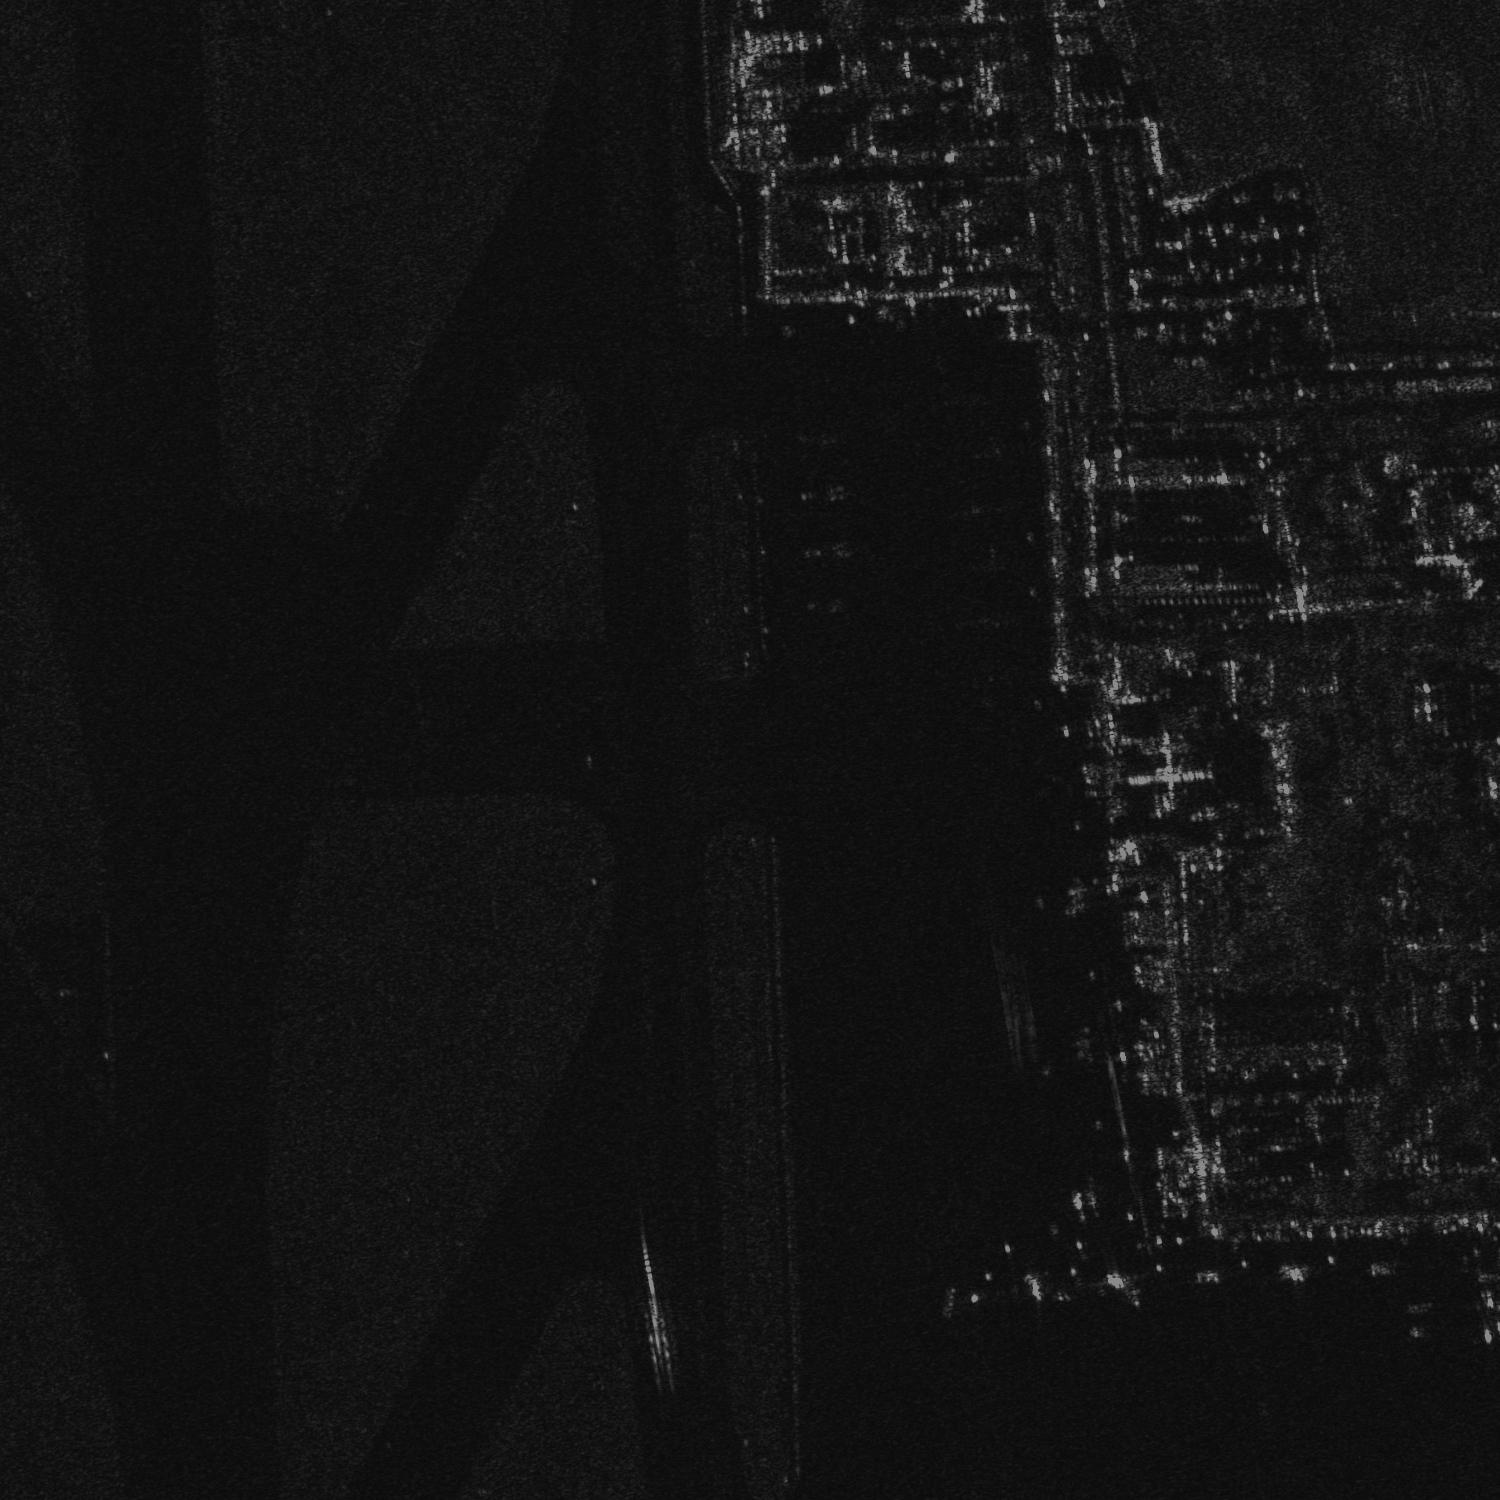ARJ21: (1457, 1266, 1499, 1346), (793, 537, 863, 566), (801, 591, 854, 620)
Boeing737: (1089, 1262, 1155, 1312)
other: (795, 475, 857, 510)
